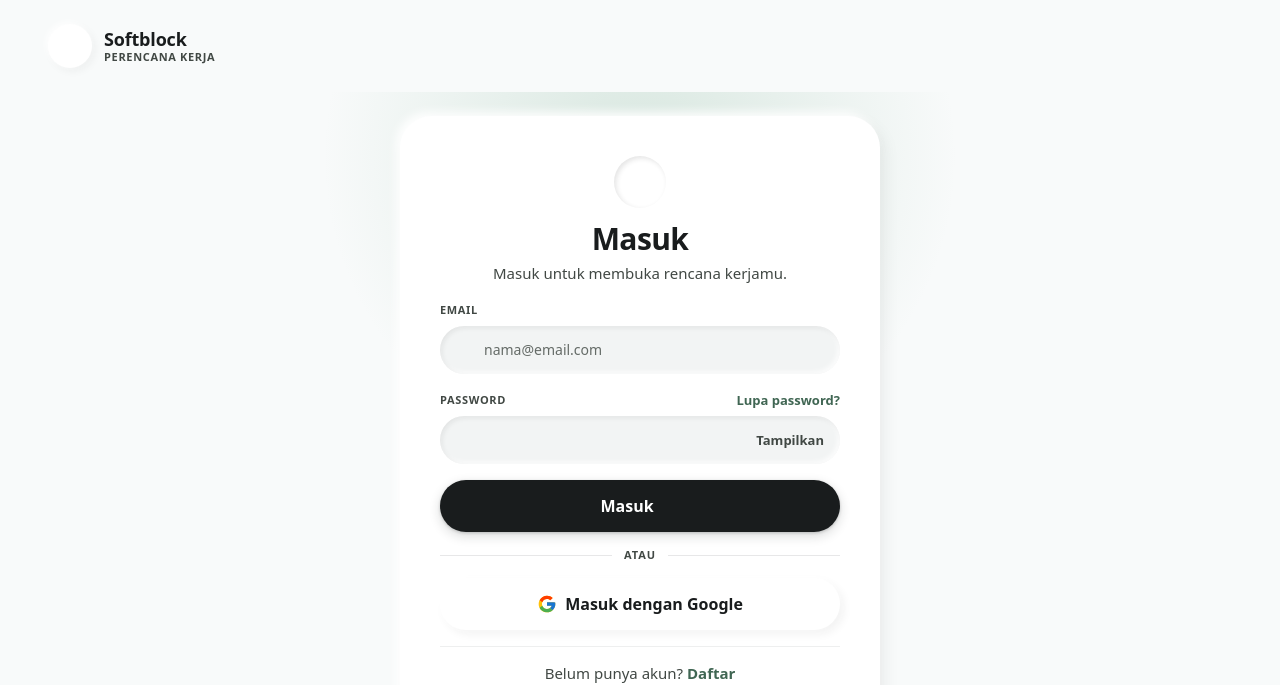
it: Pengenalan fitur › akun lama tidak mendapat pengenalan otomatis
Type "demo@softblock.test" into the field labelled "Email" at (640, 350), box [440,326,840,374]
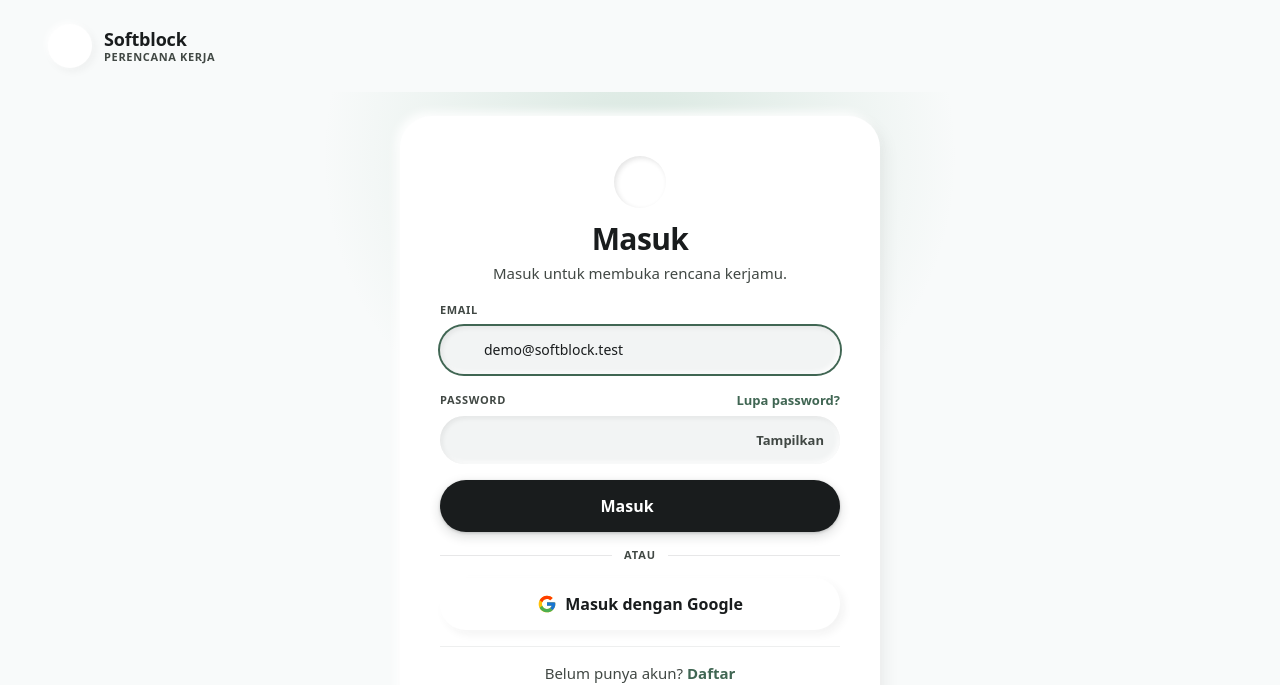
Type "perencana-demo" into the password field labelled "Password" at (640, 440), box [440,416,840,464]
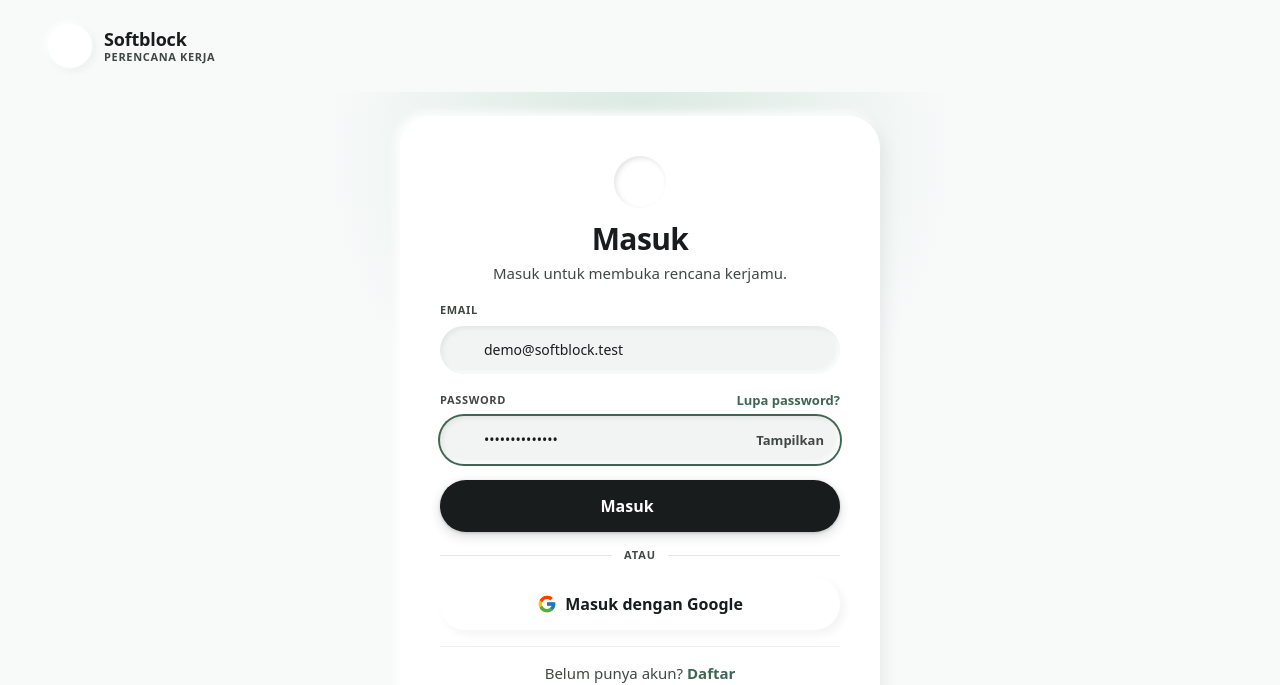
Click the button "Masuk" at (640, 506), box [440,480,840,532]
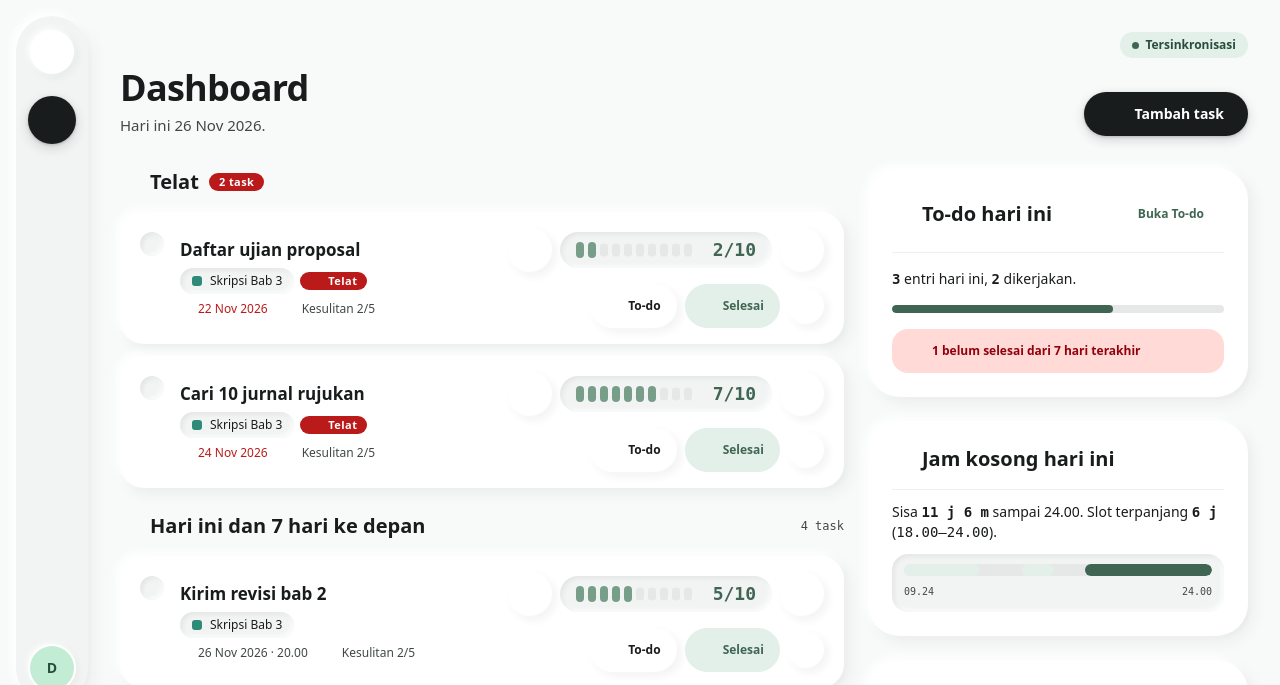
Expected: the heading "Dashboard" is shown, [120,66,309,110]
